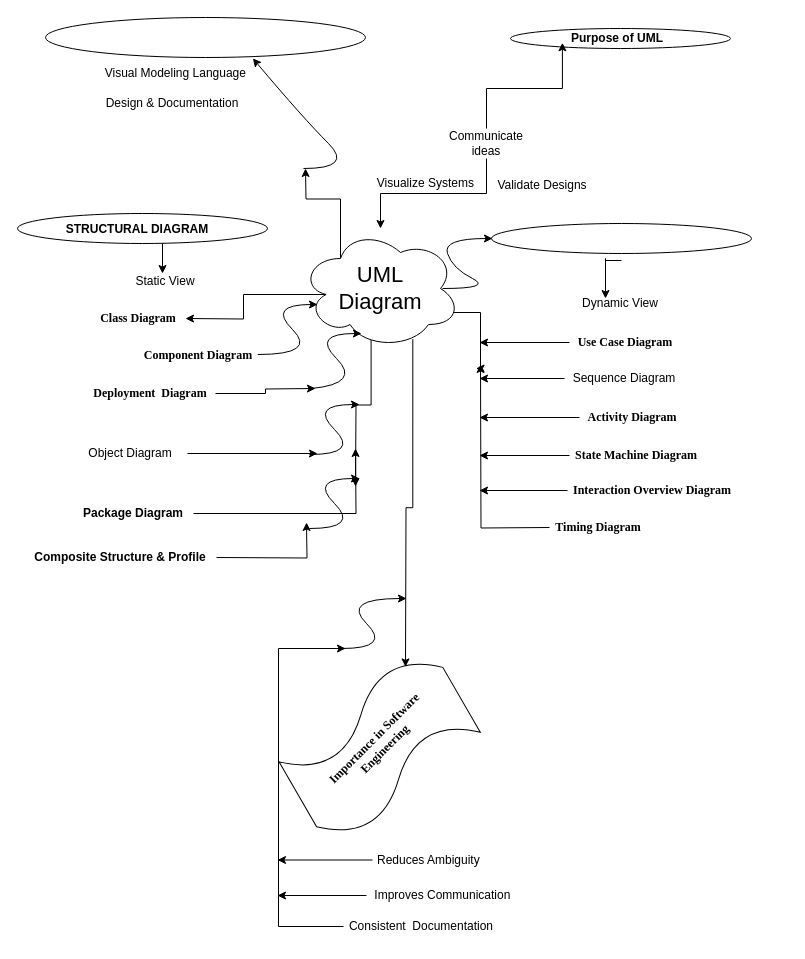
Some shapes in this 805 by 959 pixel diagram are drawn without their labels. Here are the shapes that lost their labels. From the top down, the centre of each, then its label:
At pixel 205 37: "Uniified Modeling Language (UML)".
At pixel 621 238: "BEHAVIORAL DIAGRAM".
